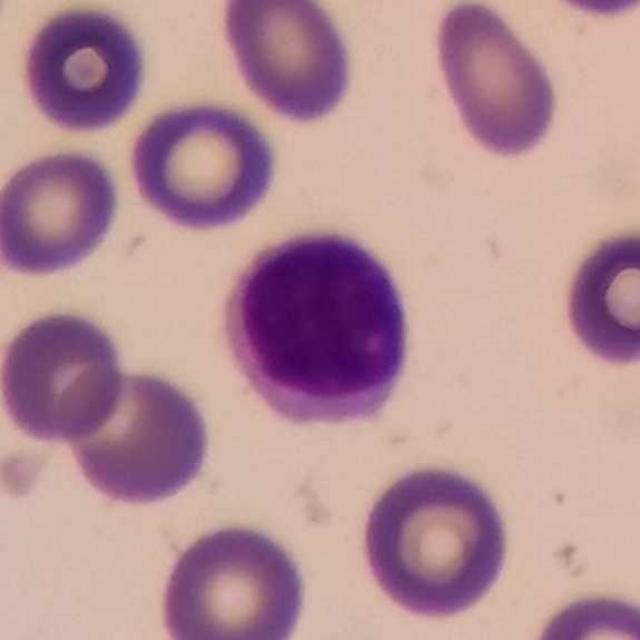Lymphocyte: (211, 219, 423, 433)
Platelets: (0, 444, 51, 504)
RBC: (355, 458, 515, 624), (58, 362, 216, 510), (426, 0, 563, 165), (125, 94, 282, 233), (154, 516, 312, 640), (14, 1, 152, 137), (0, 304, 130, 445), (215, 0, 358, 127), (0, 144, 125, 280), (555, 222, 640, 371), (525, 585, 640, 640), (542, 0, 640, 22)
